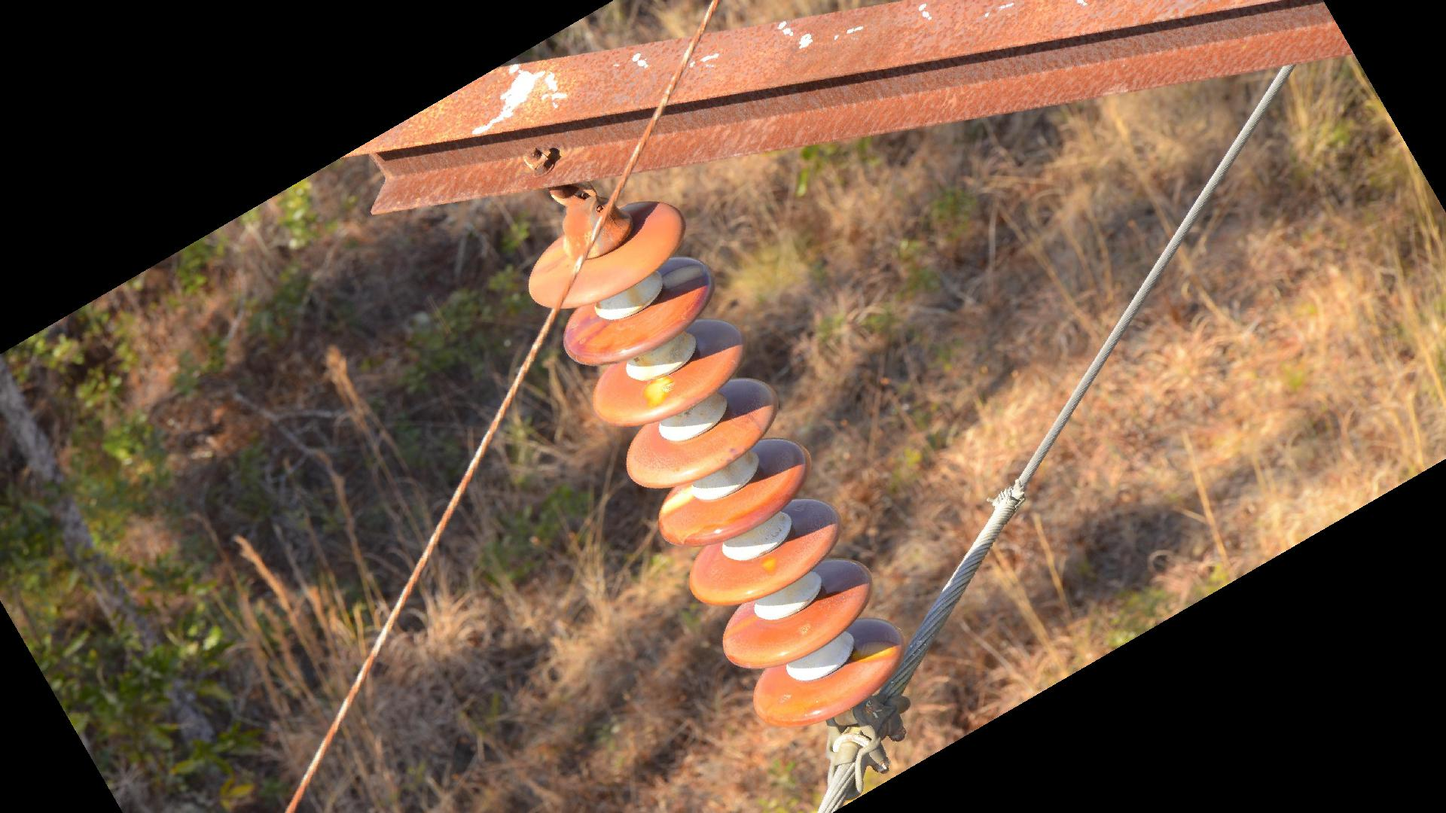insulator: (522, 196, 909, 732)
insulator_flashover: (846, 635, 903, 665), (654, 483, 699, 520), (642, 373, 674, 410)
